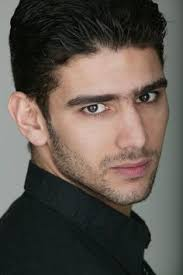middle_eastern_male: (41, 39, 177, 195)
